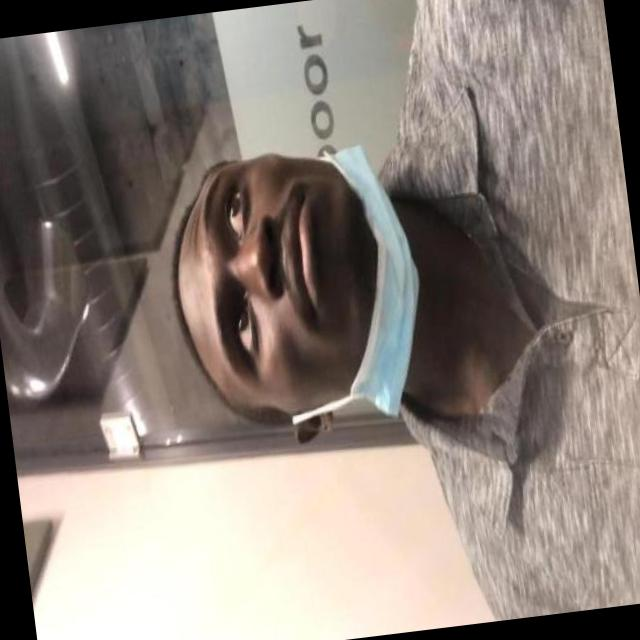bareface: (170, 125, 420, 445)
